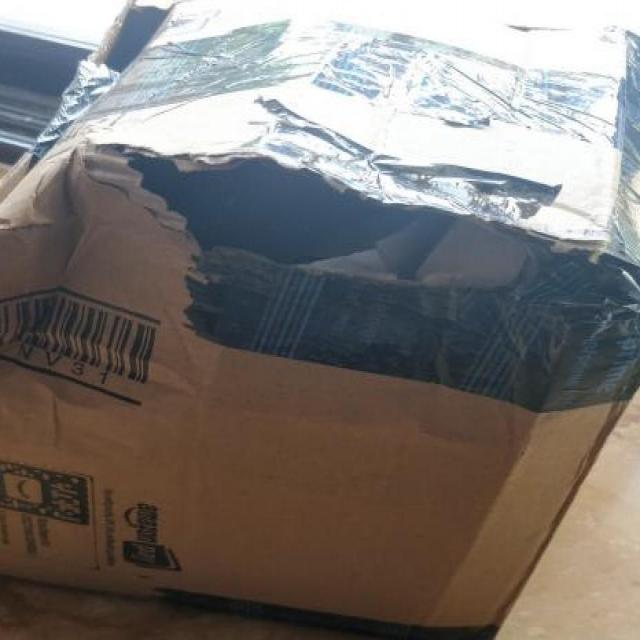damaged: (141, 161, 422, 308)
